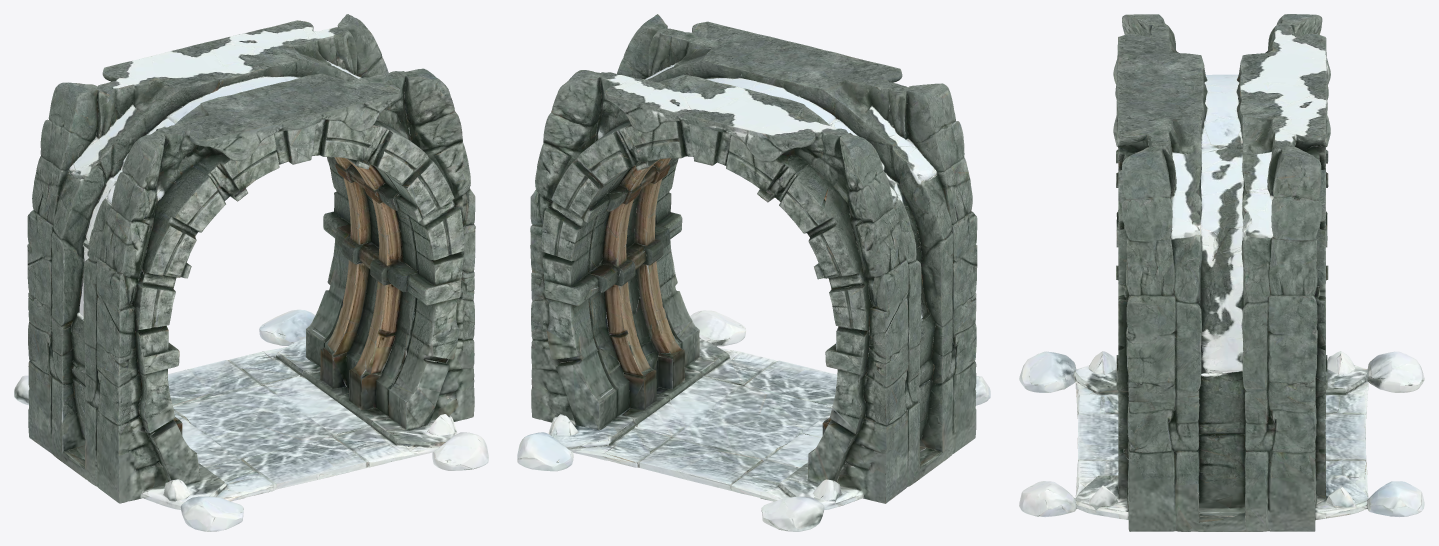
Rendered from tunnel_portal.glb.
3 renders of one model, left to right at view 1: azimuth 30°, elevation 25°; view 2: azimuth 150°, elevation 25°; view 3: azimuth 270°, elevation 25°, orthographic. The views are drawn at different scales.
Size of the model in its own units: 1.9 by 1.77 by 1.82.
Materials: 1 (1 with a texture image).
